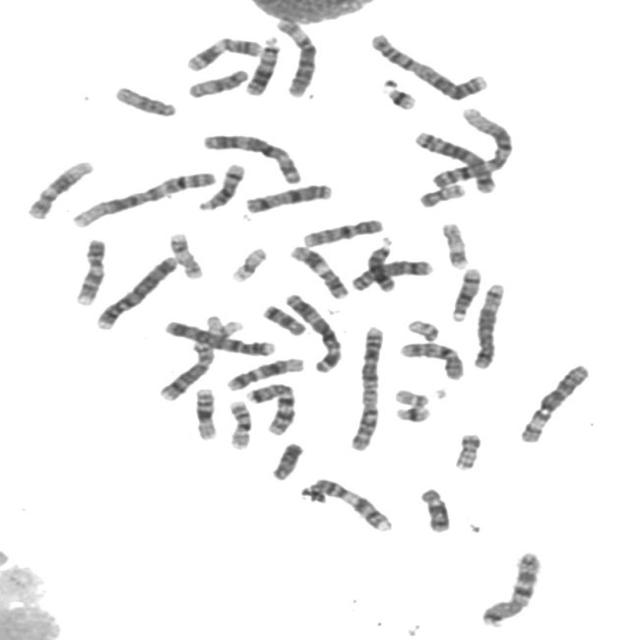A1: (68, 166, 220, 230), (428, 103, 518, 190)
A2: (366, 27, 494, 102), (346, 320, 389, 452)
A3: (198, 128, 306, 185), (280, 287, 346, 373)
B4: (92, 251, 182, 331), (160, 315, 280, 357)
B5: (411, 125, 500, 195), (470, 278, 509, 370)
C10: (396, 336, 468, 382), (298, 214, 387, 248)
C11: (286, 240, 352, 300), (181, 32, 266, 72)
C12: (22, 154, 98, 221), (223, 352, 308, 392)
C6: (515, 358, 594, 444), (272, 14, 322, 98)
C7: (476, 546, 546, 628), (242, 376, 300, 436)
C8: (154, 336, 218, 402), (348, 254, 437, 292)
C9: (301, 474, 397, 533), (71, 234, 110, 306)
D13: (241, 32, 284, 96), (363, 232, 399, 292)
D14: (194, 158, 248, 212), (448, 262, 485, 322)
D15: (110, 81, 181, 118), (184, 63, 252, 99)
E16: (190, 382, 222, 442), (224, 395, 256, 451)
E17: (165, 228, 207, 280), (437, 217, 473, 270)
E18: (416, 483, 455, 534), (258, 299, 309, 336)
F19: (226, 242, 271, 283), (199, 309, 245, 340)
F20: (416, 178, 470, 209), (450, 427, 485, 472)
G21: (380, 79, 420, 111), (391, 401, 434, 423)
G22: (403, 314, 443, 343), (391, 384, 432, 408)
X: (241, 178, 337, 214)
Y: (268, 437, 307, 481)
